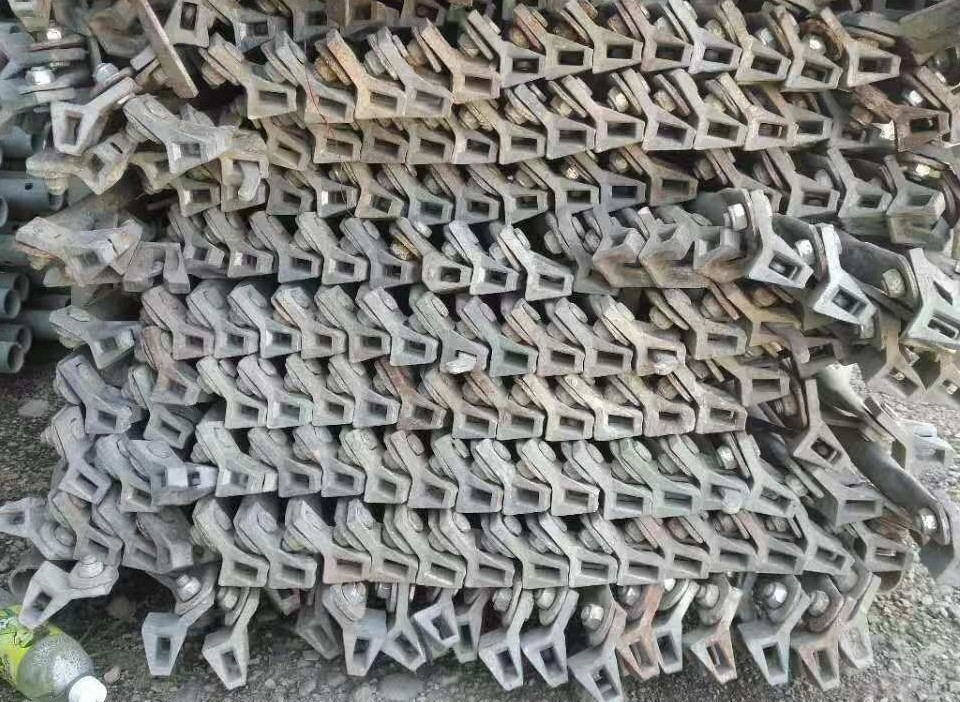sigma_steel: (519, 627, 571, 685), (885, 108, 952, 153), (742, 109, 800, 160), (790, 428, 852, 475), (15, 573, 67, 629), (131, 622, 180, 681), (743, 631, 792, 689), (637, 111, 697, 158), (473, 637, 526, 690), (45, 102, 95, 157), (240, 78, 297, 125), (588, 112, 646, 158), (636, 399, 698, 441), (201, 638, 251, 690), (297, 86, 354, 131), (735, 46, 792, 91), (539, 120, 596, 165), (394, 83, 453, 125), (783, 57, 842, 99), (685, 36, 742, 79), (579, 337, 635, 380), (695, 113, 748, 158), (801, 536, 854, 581), (742, 478, 796, 522), (597, 481, 653, 523), (381, 627, 431, 674), (336, 631, 388, 676), (834, 184, 891, 225), (693, 319, 747, 362), (798, 635, 841, 689), (80, 328, 136, 369), (146, 370, 202, 411), (160, 136, 217, 176), (494, 124, 547, 167), (831, 489, 884, 532), (546, 478, 600, 520), (782, 109, 831, 155), (692, 396, 748, 436), (900, 436, 952, 479), (641, 36, 695, 77), (639, 221, 693, 262), (647, 627, 690, 678), (227, 13, 283, 52), (532, 337, 584, 379), (652, 482, 704, 524), (589, 37, 642, 78), (262, 131, 311, 175), (452, 475, 502, 518), (445, 65, 500, 104), (382, 328, 437, 367), (354, 83, 405, 125), (492, 402, 544, 443), (307, 130, 363, 168), (845, 52, 898, 92), (407, 473, 455, 517), (445, 610, 484, 664), (487, 339, 538, 380), (215, 552, 267, 592), (702, 541, 758, 578), (594, 404, 642, 447), (272, 460, 321, 502), (459, 555, 513, 593), (515, 555, 572, 591), (296, 621, 346, 662), (293, 324, 349, 360), (737, 371, 790, 409), (413, 606, 462, 647), (261, 390, 311, 430), (656, 544, 710, 581), (596, 179, 647, 218), (252, 325, 303, 364), (57, 467, 108, 506), (753, 540, 804, 579), (394, 396, 446, 434), (689, 223, 731, 270), (500, 476, 547, 518), (318, 462, 365, 504), (450, 131, 498, 172), (355, 131, 408, 168), (320, 547, 373, 584), (446, 192, 500, 228), (70, 531, 121, 569), (521, 266, 573, 303), (263, 553, 313, 591), (363, 467, 407, 510), (887, 186, 941, 221), (405, 133, 456, 170), (316, 252, 367, 289), (498, 192, 550, 228), (216, 395, 268, 431), (305, 390, 354, 428), (610, 552, 663, 587), (350, 396, 400, 433), (421, 256, 469, 294), (567, 550, 615, 588), (646, 176, 699, 210), (365, 551, 418, 585), (417, 554, 467, 590), (468, 263, 519, 298), (210, 325, 259, 361), (346, 325, 390, 364), (542, 44, 589, 80), (173, 182, 221, 217), (447, 410, 495, 445), (79, 401, 127, 436), (352, 189, 405, 220), (224, 246, 272, 280), (115, 541, 159, 578), (263, 184, 312, 217), (554, 183, 600, 218), (338, 3, 385, 37), (168, 328, 215, 362), (115, 481, 158, 518), (68, 248, 112, 284), (177, 235, 221, 271), (365, 257, 413, 290), (274, 250, 319, 285), (593, 229, 640, 262), (289, 3, 329, 41), (1, 498, 37, 538), (317, 186, 358, 220), (406, 198, 451, 227)
sigma_steel_blocked: (805, 273, 876, 331), (743, 240, 813, 291), (900, 300, 960, 352), (691, 629, 741, 684), (576, 653, 626, 702), (614, 628, 661, 680), (824, 115, 881, 157), (629, 334, 687, 375), (783, 181, 839, 221), (542, 404, 596, 445), (748, 309, 803, 349), (436, 336, 489, 377), (212, 460, 263, 502), (836, 620, 878, 669), (170, 1, 211, 49), (496, 52, 546, 91), (697, 479, 747, 517), (858, 536, 910, 572)
